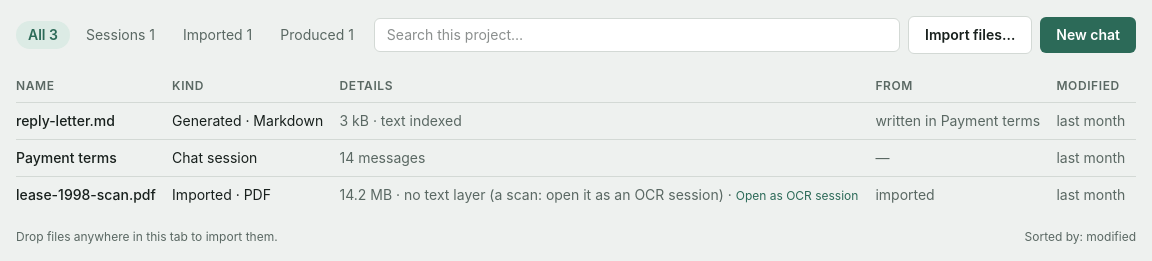
it: Overview › filters by what kind of item it is
Click the button "Produced 1". click: (317, 35)
box: [268,21,366,49]
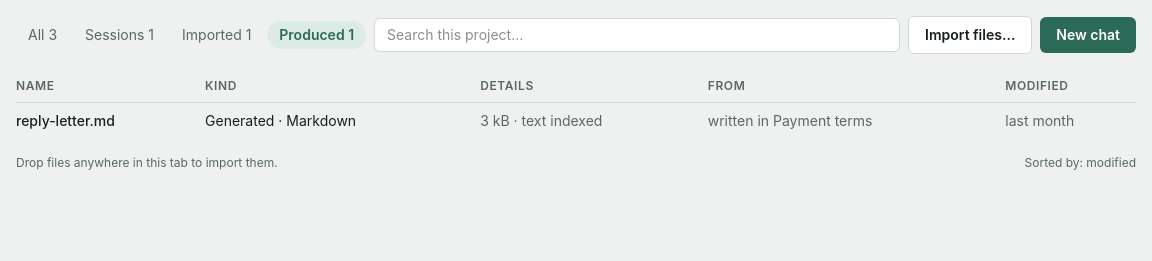
Check: the number of rows is 2, box [16,70,1136,102]; [16,102,1136,139]
Click the button "Sessions 1". click: (120, 35)
box: [73,21,166,49]
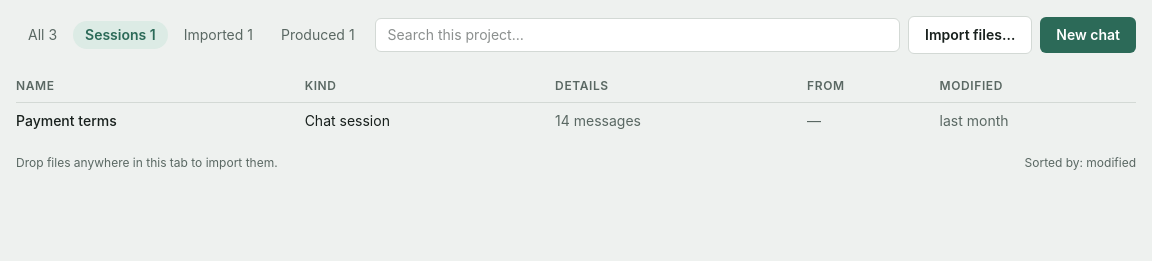
Check: the text "Payment terms" is shown, box [16,102,305,139]
Check: the text "reply-letter.md" is gone
